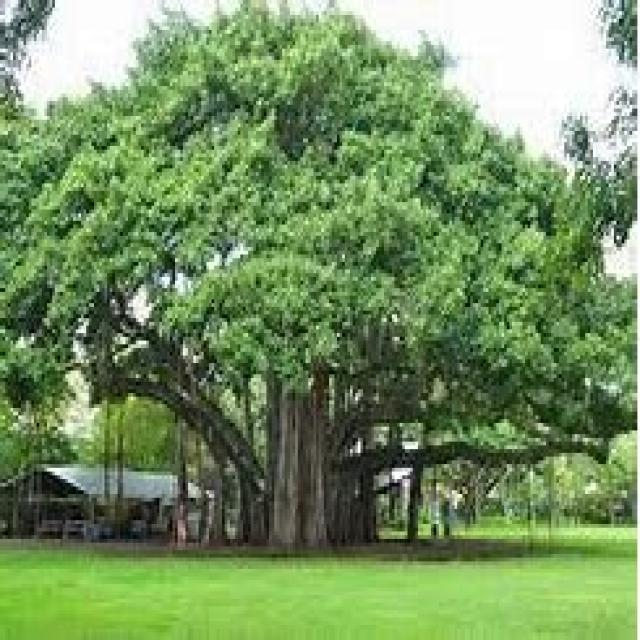Banyan-Tree: (0, 0, 640, 640), (99, 304, 547, 578)
